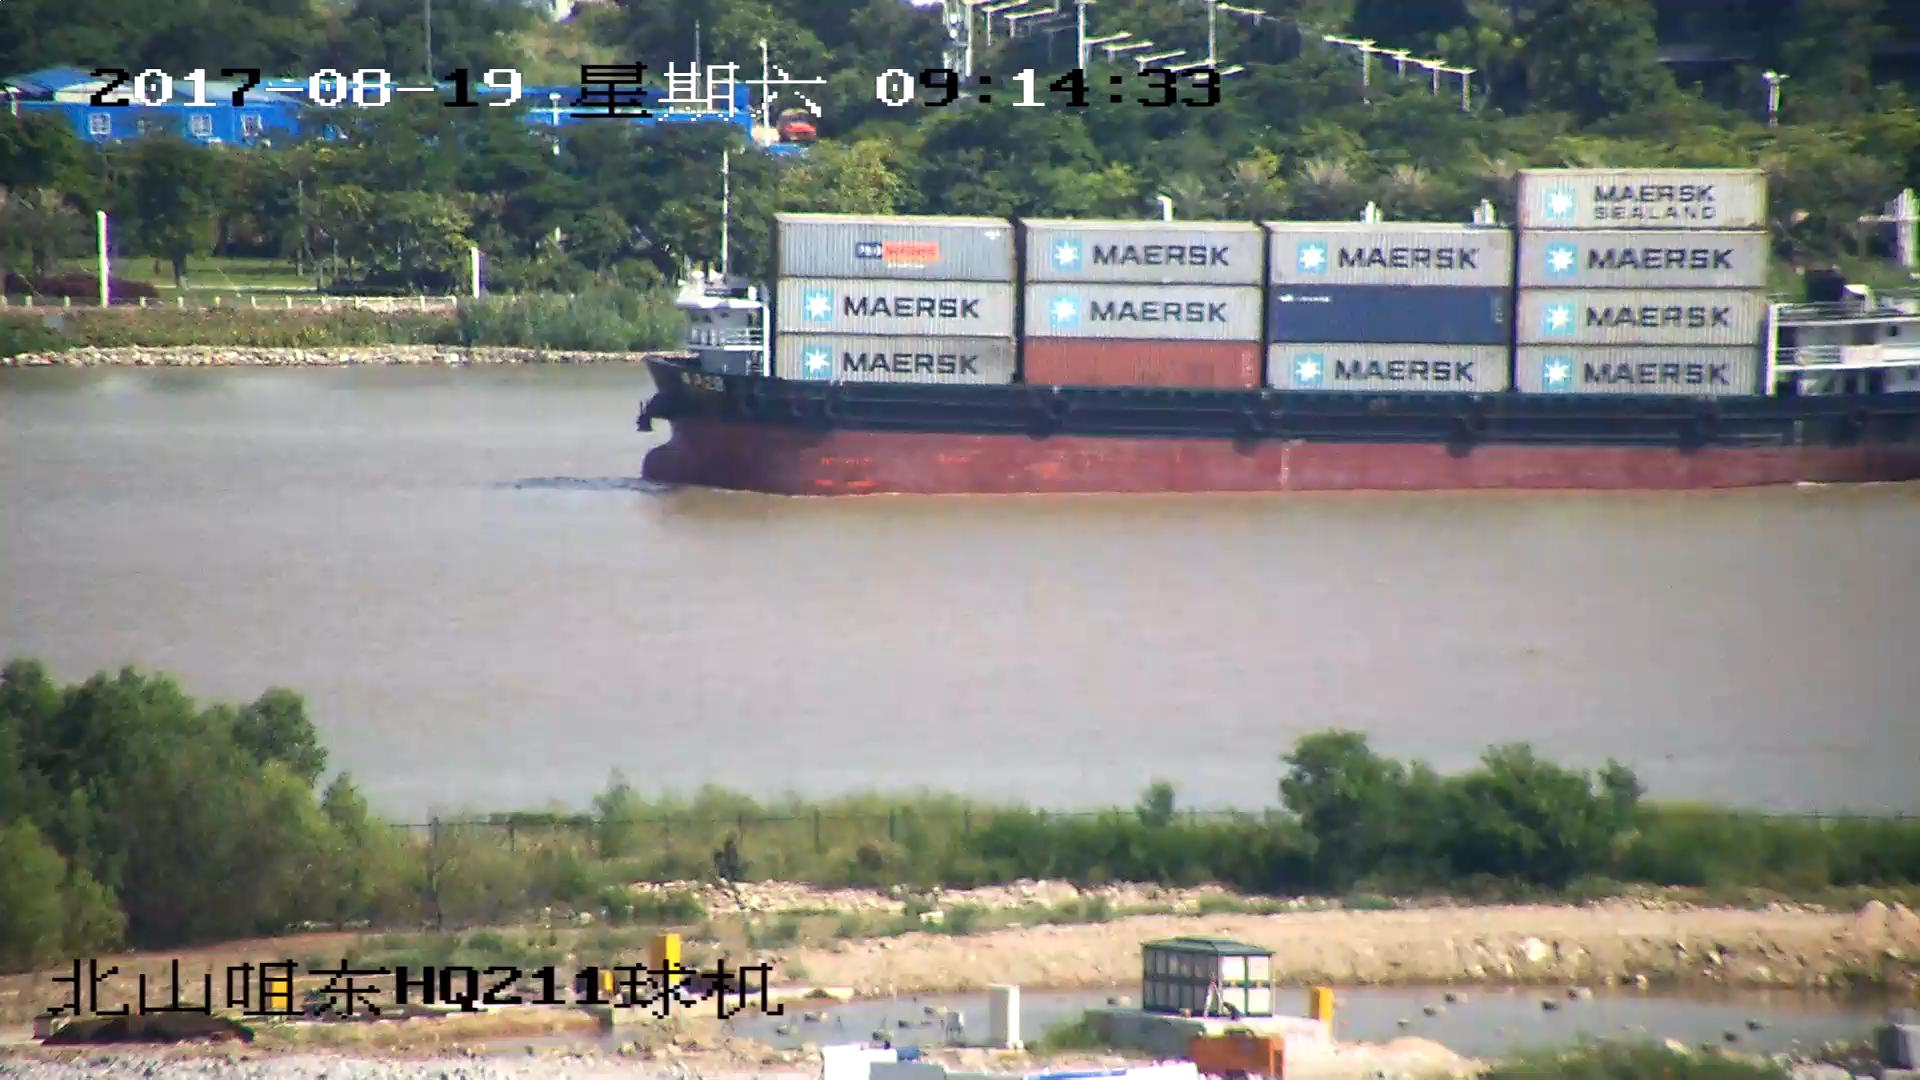container ship: (635, 150, 1920, 496)
